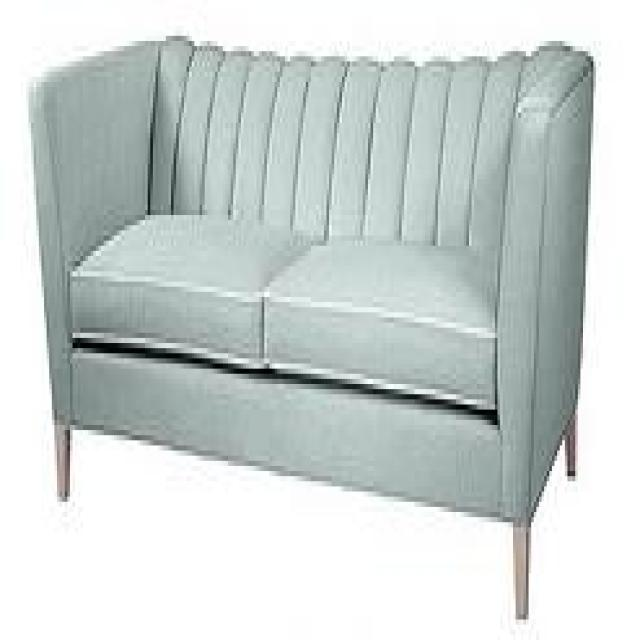sofa: (26, 31, 593, 614)
